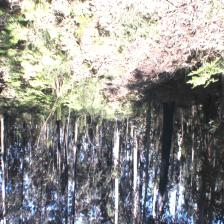trunktrack_idkeyframe: (160, 104, 174, 183), (145, 99, 152, 177)
